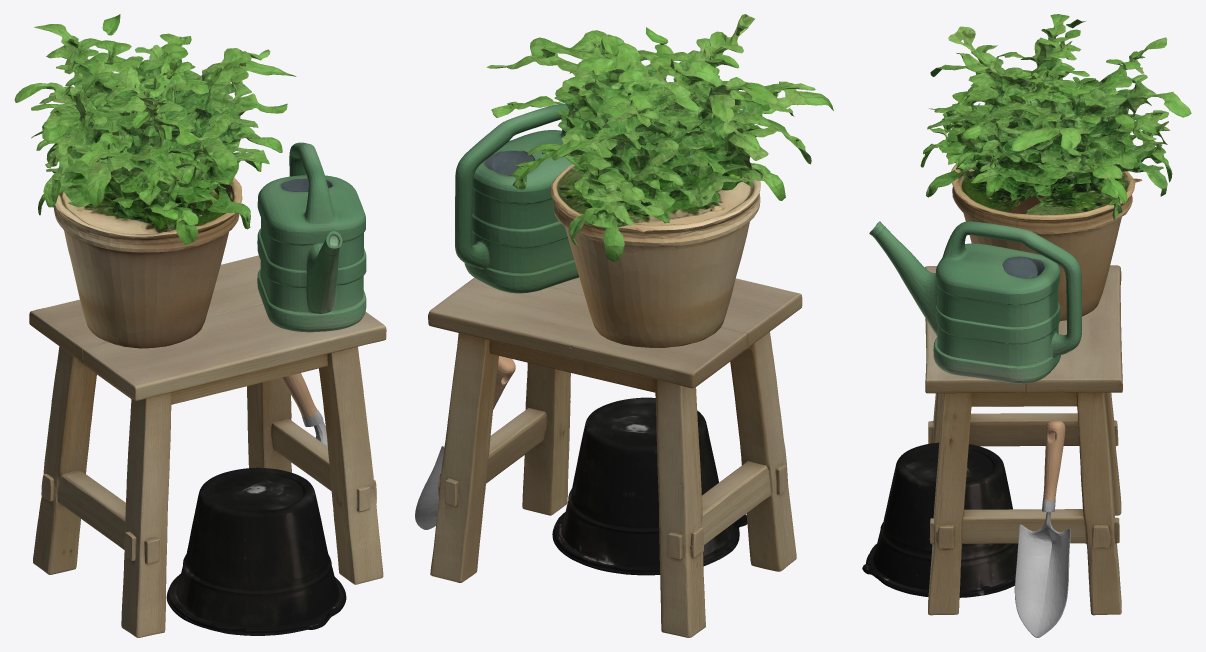
Rendered from phi-scene.glb.
The picture shows the model from 3 angles, left to right: view 1: azimuth 30°, elevation 25°; view 2: azimuth 150°, elevation 25°; view 3: azimuth 270°, elevation 25°; orthographic projection. The views are drawn at different scales.
Visible parts, largest first — view 1: object_03, object_04, object_02, object_01, object_00; view 2: object_03, object_04, object_02, object_01, object_00; view 3: object_04, object_03, object_01, object_02, object_00.
Boxes of the visible parts, x1,y1,x2,y2 form: object_03: (29, 255, 386, 637); object_04: (14, 14, 296, 348); object_02: (166, 467, 346, 635); object_01: (257, 142, 366, 332); object_00: (281, 373, 327, 446); object_03: (428, 277, 802, 637); object_04: (486, 14, 833, 347); object_02: (552, 397, 747, 575); object_01: (455, 103, 578, 293); object_00: (415, 356, 515, 529); object_04: (920, 14, 1191, 320); object_03: (925, 265, 1122, 615); object_01: (869, 221, 1082, 383); object_02: (862, 442, 1018, 597); object_00: (1014, 420, 1070, 637).
Size of the model in its own units: 0.6737 by 1.02 by 0.5916.
5 materials, 5 textured.
